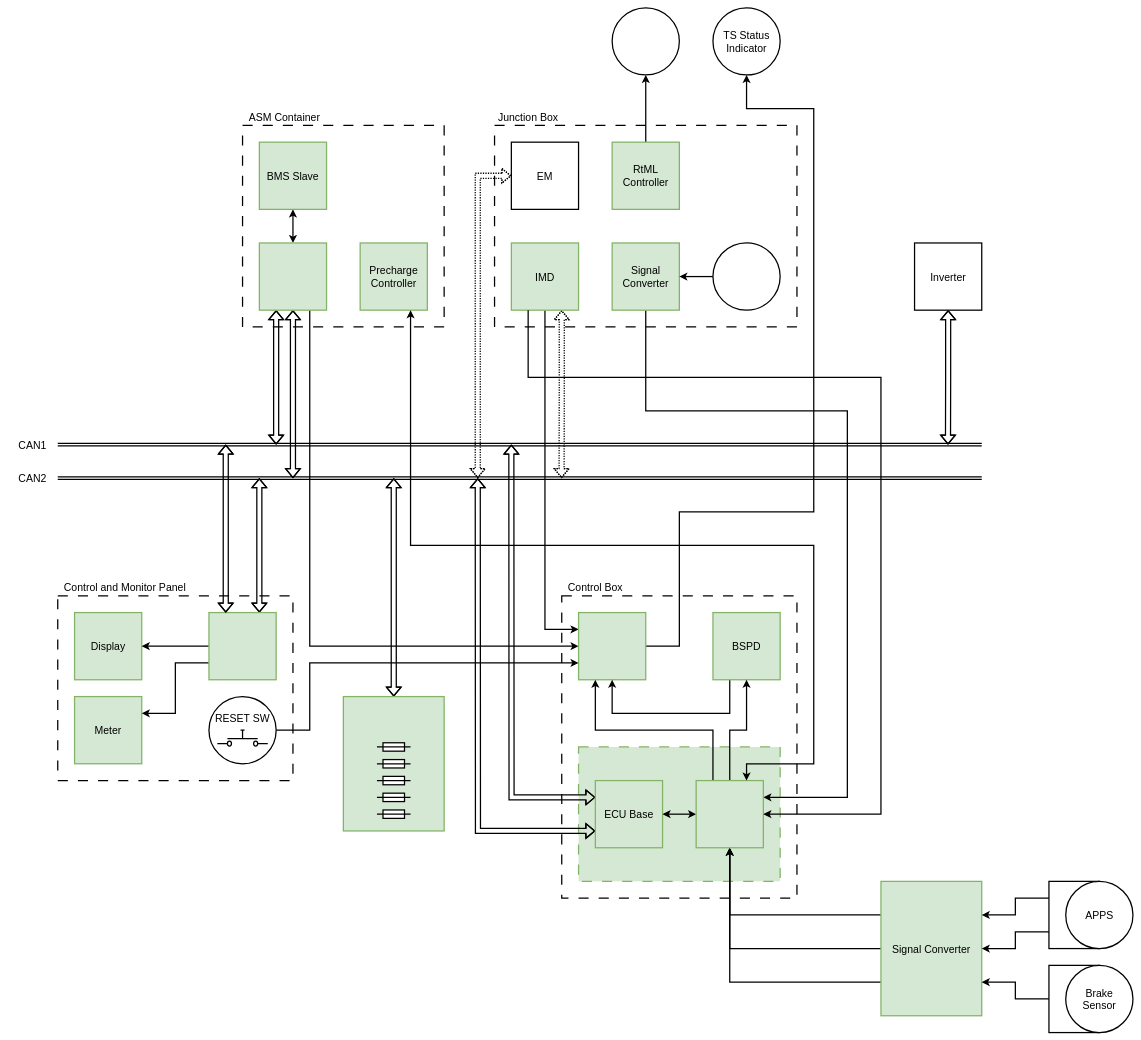
Image size: 1141x1040. Some labels were removed from this diagram. The shapes that lost their labels are listed below. From the top down, each one's box as (x1, y1, x2, y2) in pixels, then its label:
(611, 7, 680, 75): Ready to Move Light
(259, 242, 327, 311): BMS Master
(712, 242, 781, 311): Current Sensor
(208, 612, 277, 680): ECU
(578, 612, 646, 680): SDN Relays
(343, 696, 445, 831): GLV Power Distributer
(578, 746, 781, 882): VCU
(695, 780, 764, 848): IO Interface
